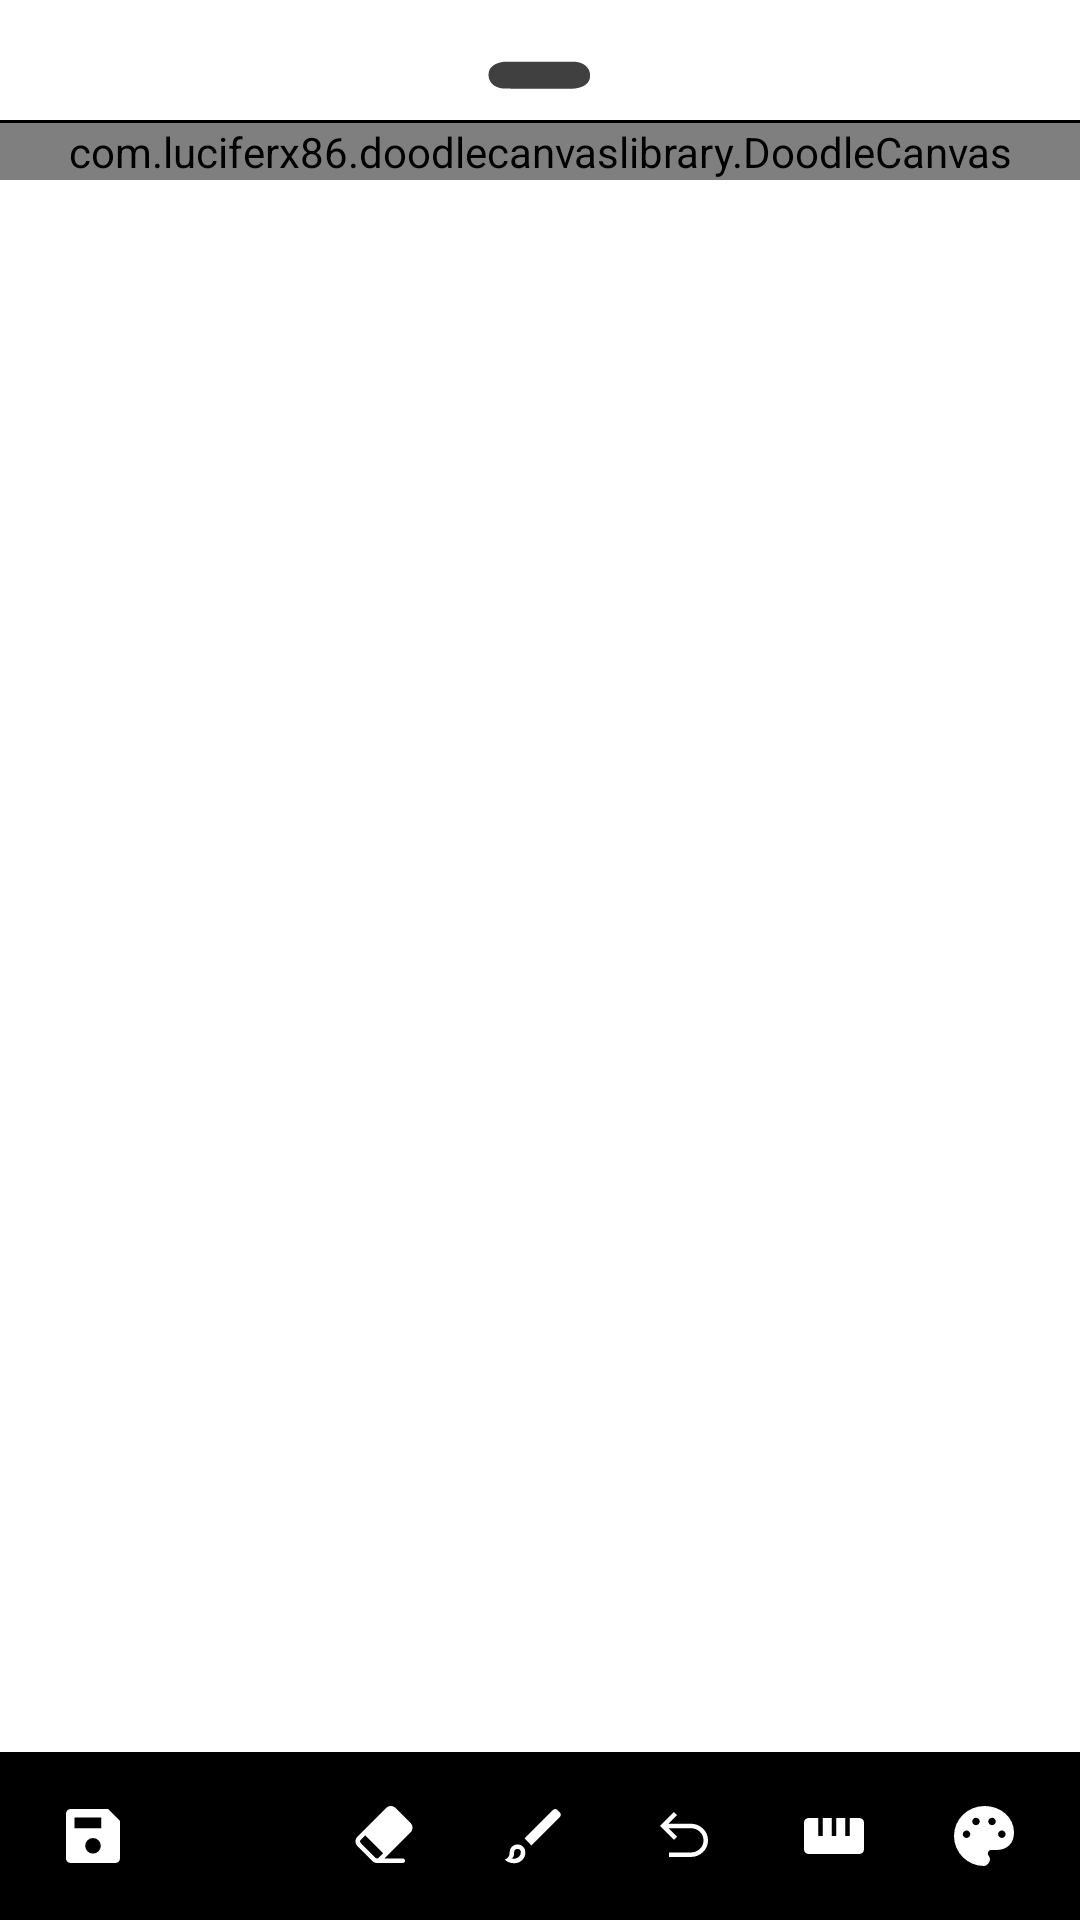

Named icons in this screenshot (1080px x 1920px) and their centers, (x,y):
brush: (533,1836)
erase: (384,1834)
palette: (984,1836)
save: (93,1836)
straighten: (834,1836)
undo: (684,1834)
